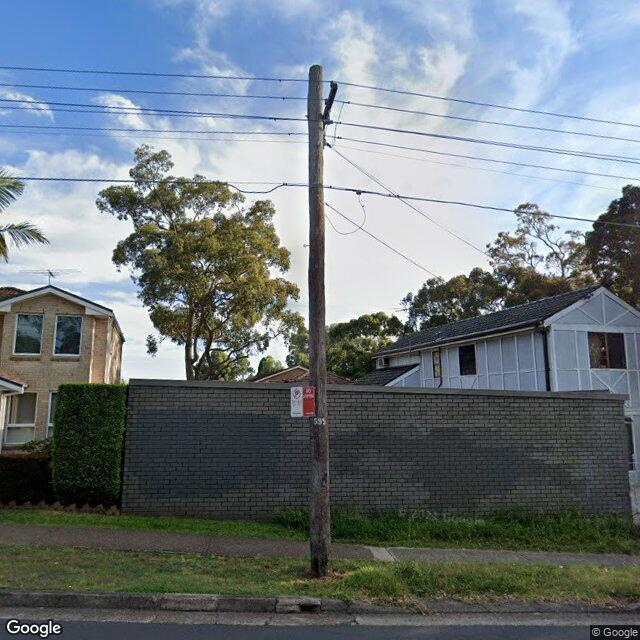crossarm: (322, 84, 338, 132)
timber-pole: (308, 64, 332, 580)
